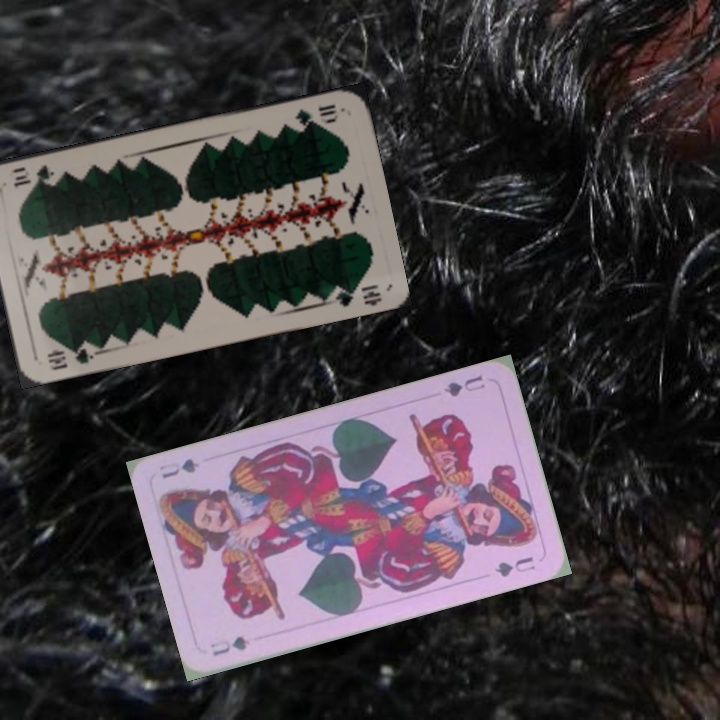G10: (43, 338, 99, 373), (291, 100, 341, 130)
GU: (440, 371, 487, 400), (206, 632, 253, 659)
